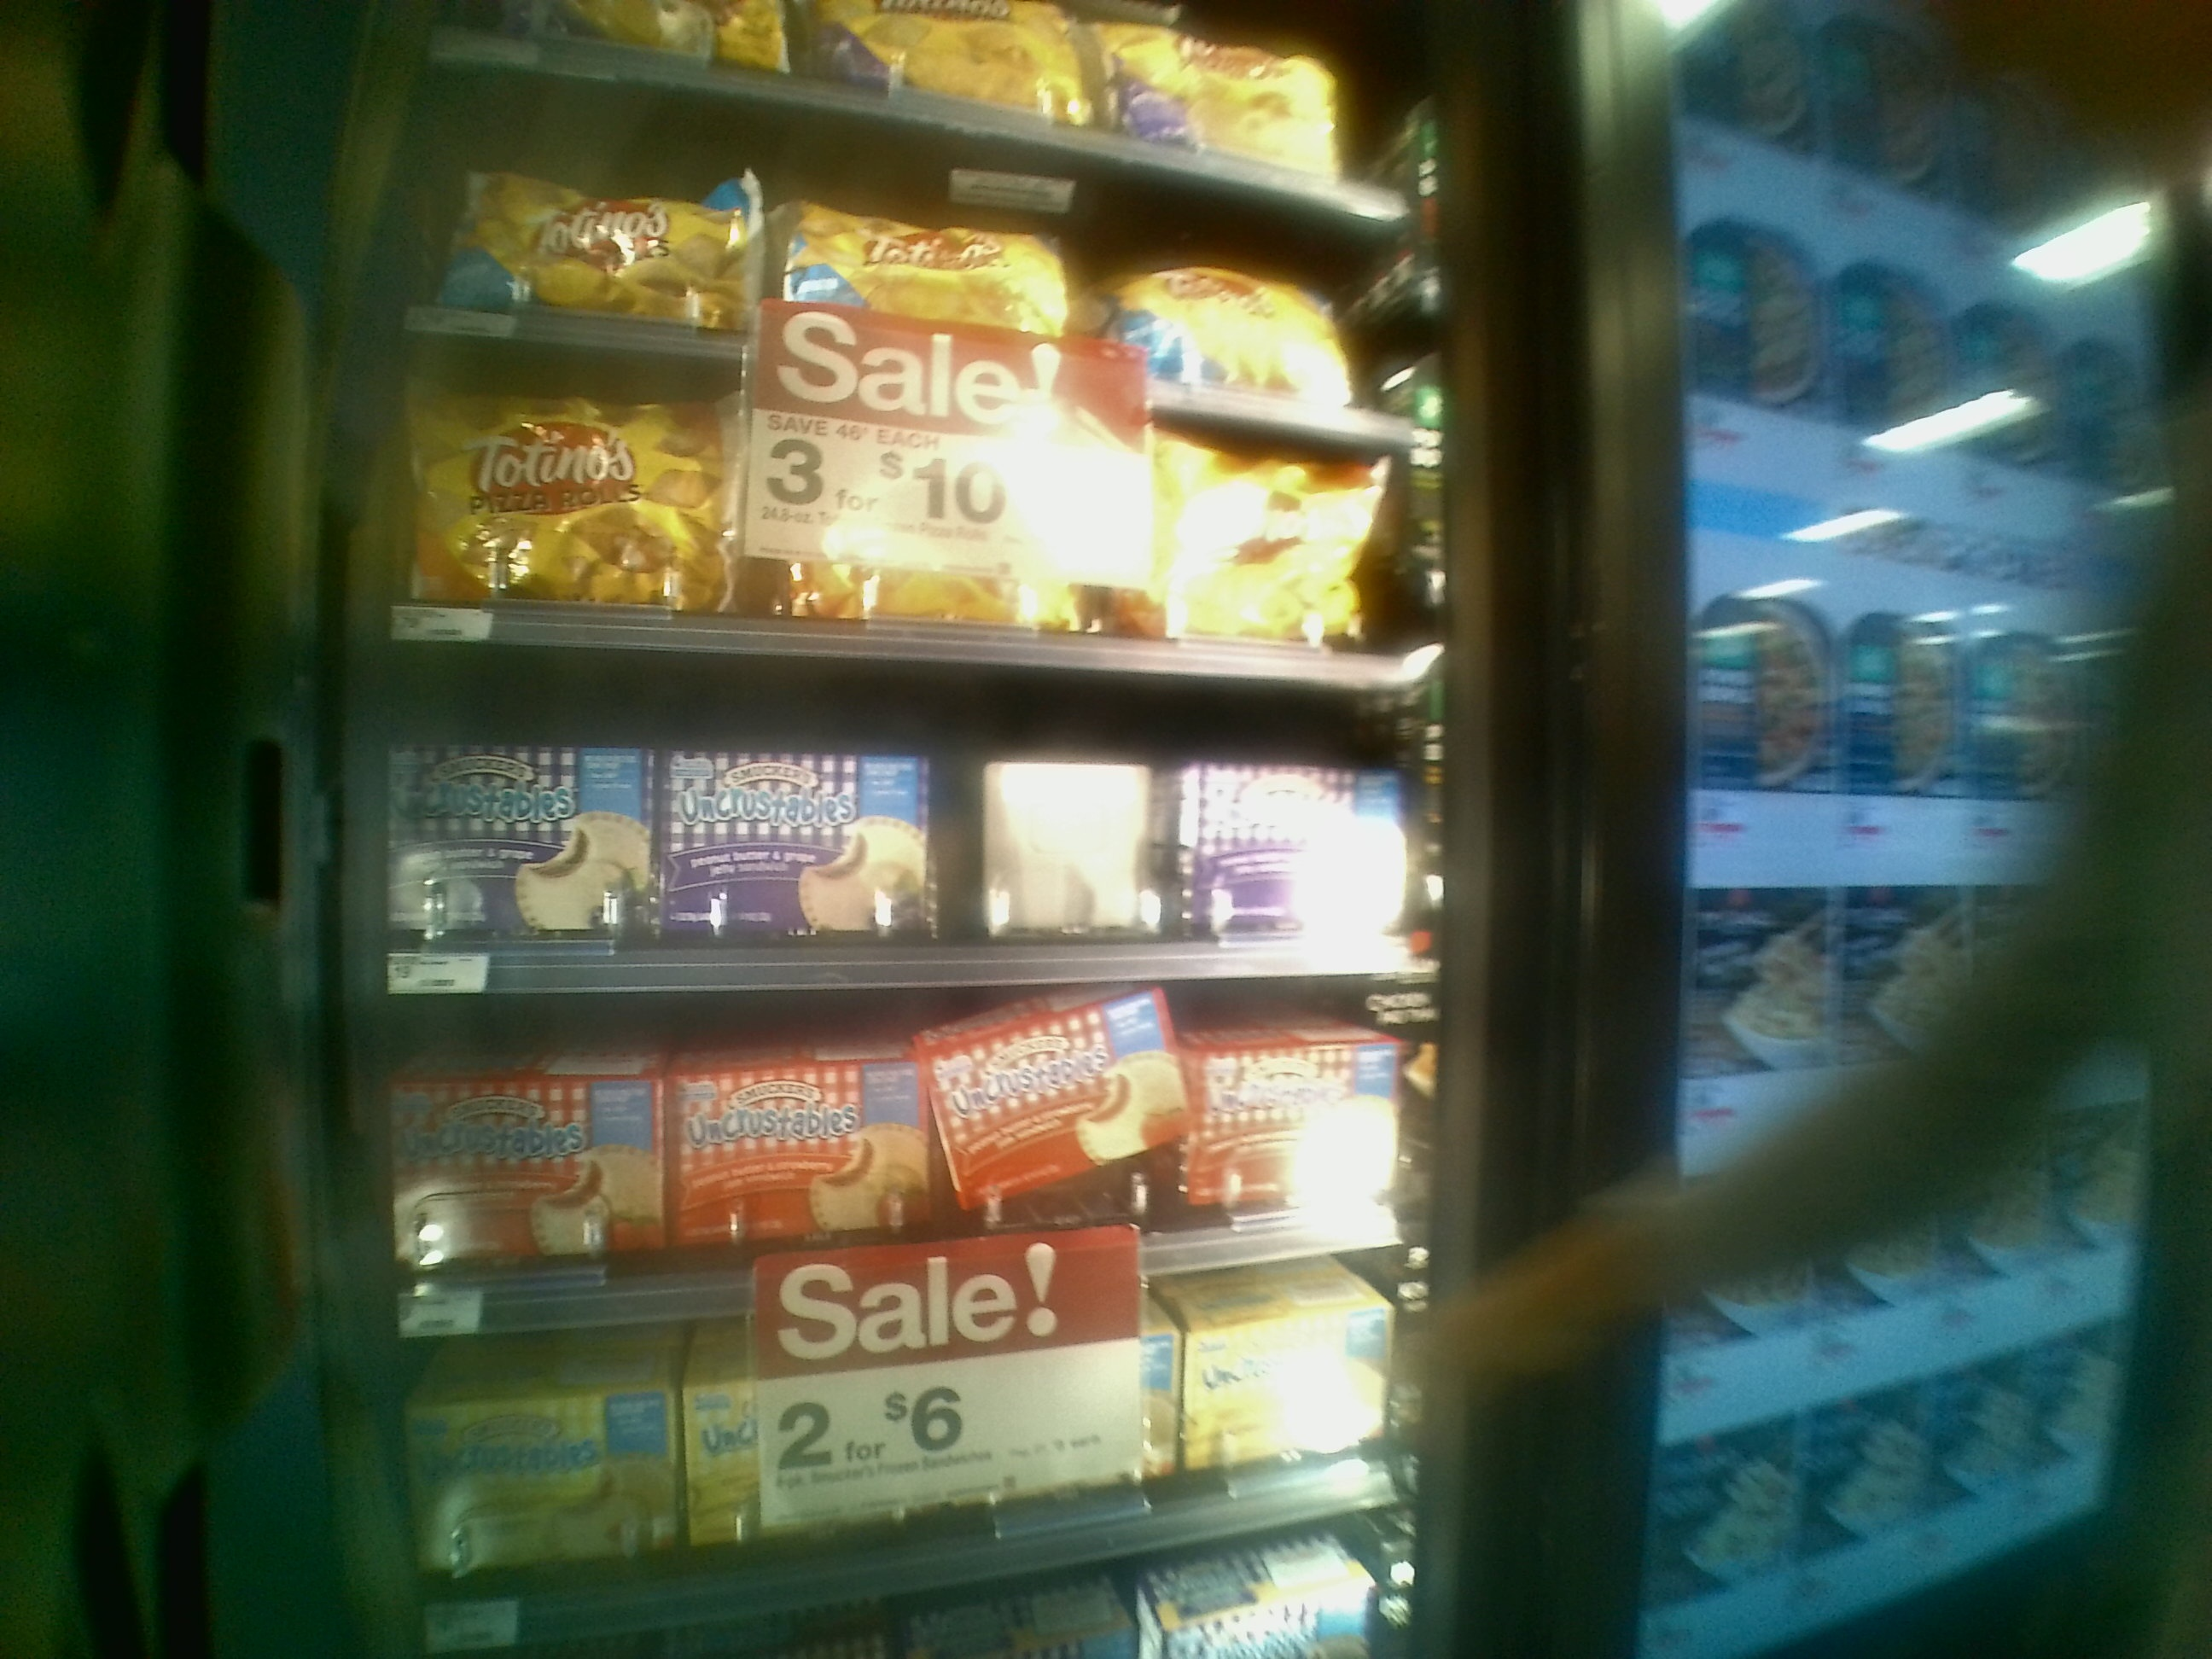shelf: (345, 627, 1418, 992), (322, 988, 1423, 1281)
